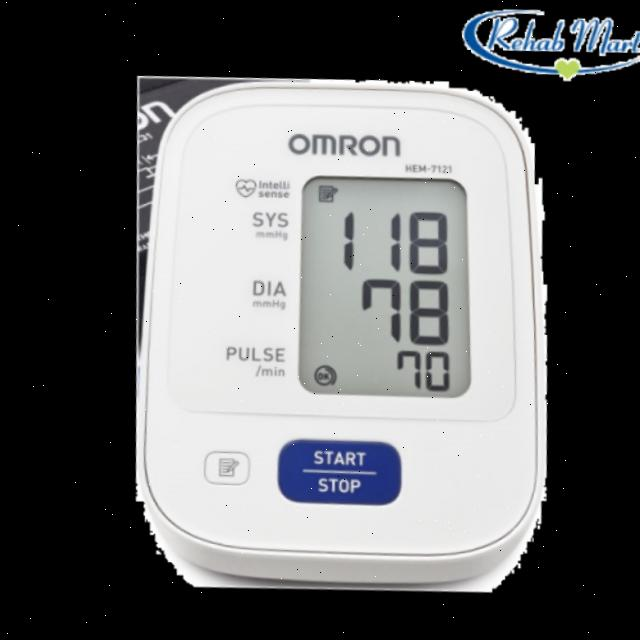dia: (347, 275, 459, 357)
pul: (379, 350, 452, 401)
ssd: (291, 179, 475, 403)
sys: (329, 206, 452, 283)
